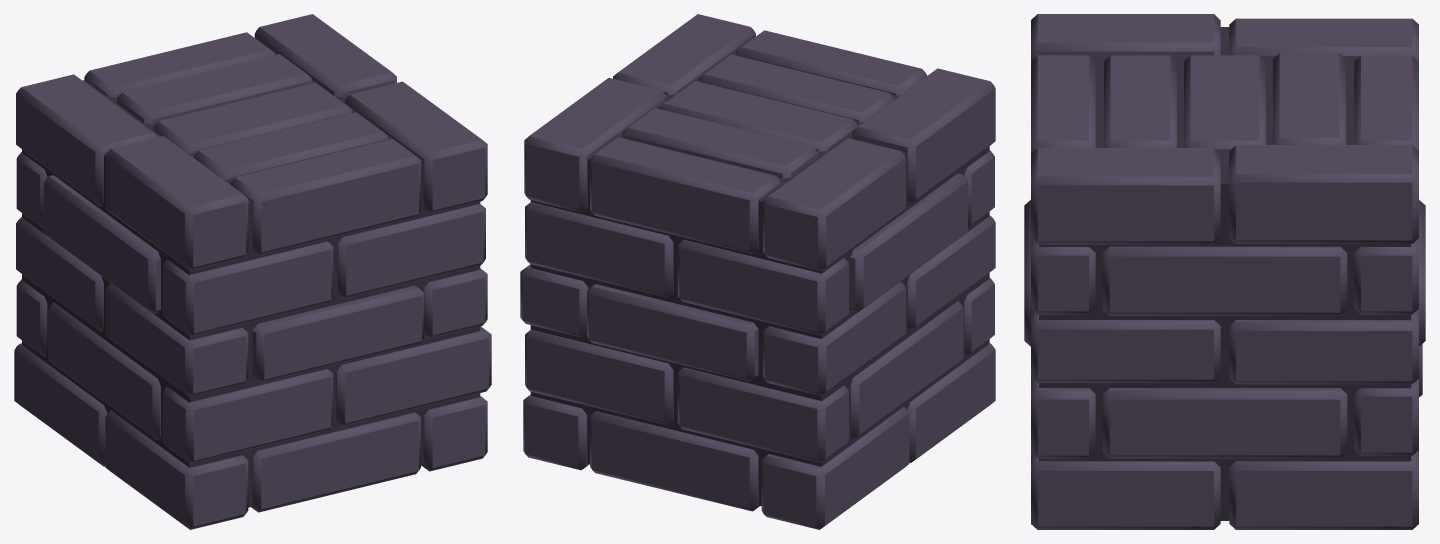
File: block.glb
The picture shows the model from 3 angles, left to right: view 1: azimuth 30°, elevation 25°; view 2: azimuth 150°, elevation 25°; view 3: azimuth 270°, elevation 25°; orthographic projection. The views are drawn at different scales.
Parts seen in each view (by area): view 1: Cube_Bricks; view 2: Cube_Bricks; view 3: Cube_Bricks.
Boxes of the visible parts, <box> form: Cube_Bricks: <box>14,14,491,529</box>; Cube_Bricks: <box>520,14,995,529</box>; Cube_Bricks: <box>1024,14,1425,529</box>.
Bounding box in the file's own units: 1.42 × 1.41 × 1.43.
1 material, 1 textured.
